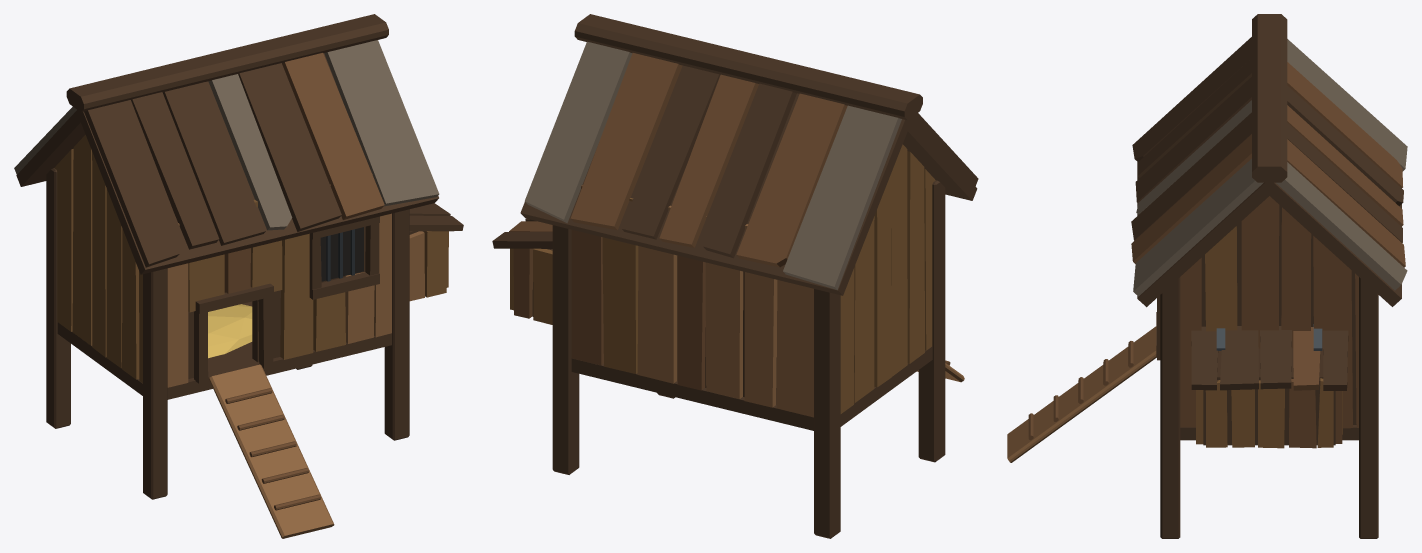
File: mdvl_farm_chicken_coop_01.glb
3 renders of one model, left to right at view 1: azimuth 30°, elevation 25°; view 2: azimuth 150°, elevation 25°; view 3: azimuth 270°, elevation 25°, orthographic. The views are drawn at different scales.
Visible parts, largest first — view 1: mdvl_farm_chicken_coop_01; view 2: mdvl_farm_chicken_coop_01; view 3: mdvl_farm_chicken_coop_01.
Boxes of the visible parts, box(x1,y1,x2,y2) form: mdvl_farm_chicken_coop_01: box(14, 14, 463, 538); mdvl_farm_chicken_coop_01: box(492, 14, 978, 538); mdvl_farm_chicken_coop_01: box(1007, 14, 1407, 538).
Size of the model in its own units: 1.89 by 1.92 by 1.82.
1 material, 1 textured.
